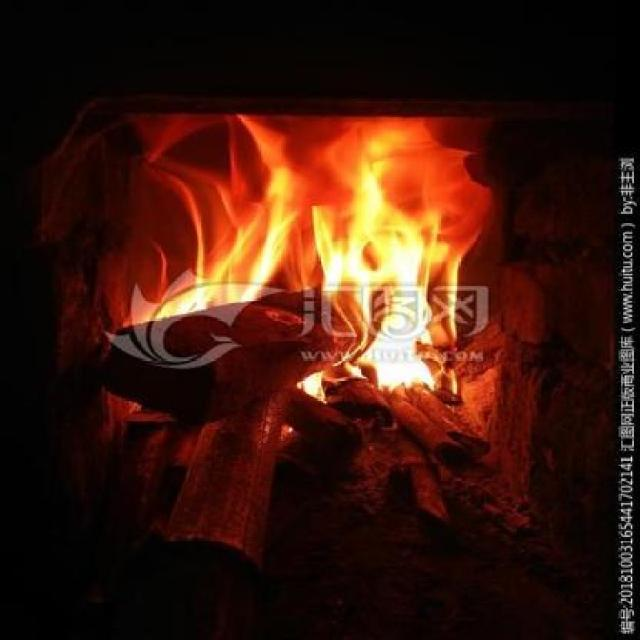Fire: (98, 95, 484, 415)
